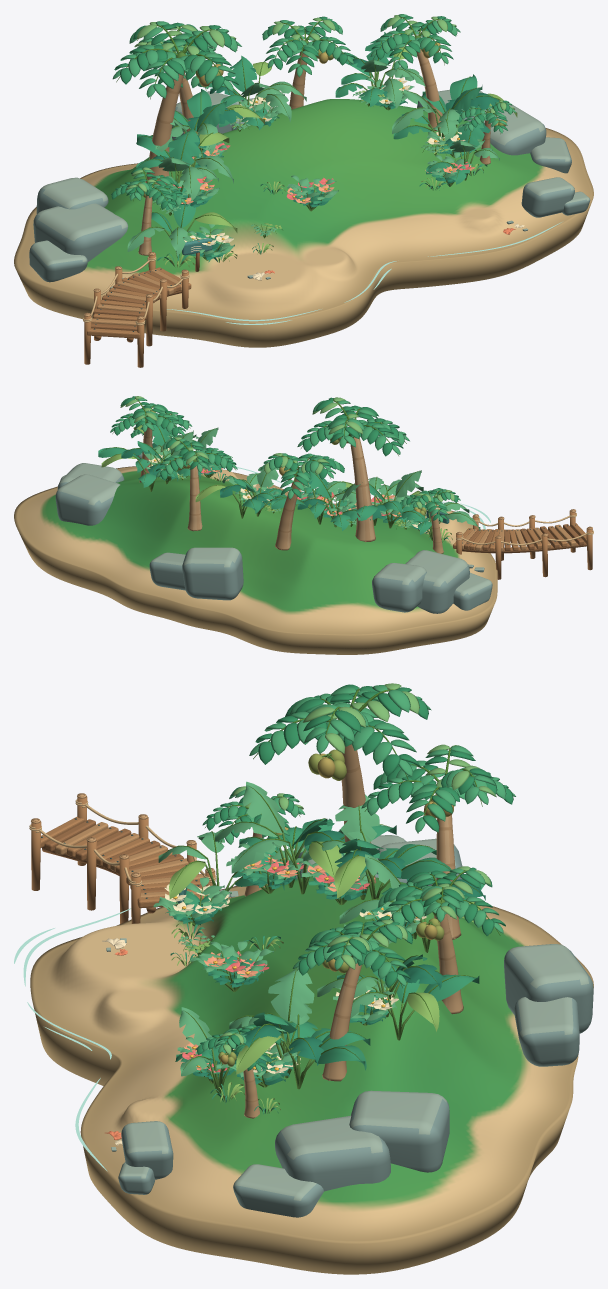
File: environment.glb
3 renders of one model, top to bottom at view 1: azimuth 30°, elevation 25°; view 2: azimuth 150°, elevation 25°; view 3: azimuth 270°, elevation 25°, orthographic. The views are drawn at different scales.
Visible parts, largest first — view 1: Cove terrain • single continuous sculpted solid, West cliff master, East cliff master, Right grove broadleaf / Foliage_Monstera_LeavesAndStems, Left grove upright / Foliage_Banana_LeavesAndStems, West cliff shoulder, Left beach broadleaf / Foliage_Banana_LeavesAndStems, Cove right sandstone, West cliff toe, Left grove broadleaf / Foliage_Monstera_LeavesAndStems, Right back grove broadleaf / Foliage_Monstera_LeavesAndStems, Rear saddle grove broadleaf / Foliage_Monstera_LeavesAndStem (+30 smaller); view 2: Cove terrain • single continuous sculpted solid, Rear rock shoulder, East cliff saddle, West cliff master, West cliff shoulder, Hero curved palm / Palm_A_BowedTrunk, Left grove broadleaf / Foliage_Monstera_LeavesAndStems, Left inner grove broadleaf / Foliage_Monstera_LeavesAndStems, Rear low slab, West cliff toe, Rear saddle grove broadleaf / Foliage_Monstera_LeavesAndStem, Right back grove broadleaf / Foliage_Monstera_LeavesAndStems (+28 smaller); view 3: Cove terrain • single continuous sculpted solid, East cliff master, East cliff saddle, Rear rock shoulder, Right grove broadleaf / Foliage_Monstera_LeavesAndStems, Rear low slab, East cliff toe, Right back grove upright / Foliage_Banana_LeavesAndStems, Left grove broadleaf / Foliage_Monstera_LeavesAndStems, Left grove upright / Foliage_Banana_LeavesAndStems, Left inner grove upright / Foliage_Banana_LeavesAndStems, Right grove upright / Foliage_Banana_LeavesAndStems (+34 smaller).
Boxes of the visible parts, x1,y1,x2,y2 form: Cove terrain • single continuous sculpted solid: (14, 99, 593, 347); West cliff master: (33, 203, 128, 261); East cliff master: (483, 104, 546, 155); Right grove broadleaf / Foliage_Monstera_LeavesAndStems: (393, 85, 499, 139); Left grove upright / Foliage_Banana_LeavesAndStems: (136, 132, 233, 200); West cliff shoulder: (36, 177, 108, 214); Left beach broadleaf / Foliage_Banana_LeavesAndStems: (127, 202, 237, 257); Cove right sandstone: (521, 177, 574, 217); West cliff toe: (29, 240, 87, 282); Left grove broadleaf / Foliage_Monstera_LeavesAndStems: (129, 127, 218, 210); Right back grove broadleaf / Foliage_Monstera_LeavesAndStems: (335, 32, 413, 106); Rear saddle grove broadleaf / Foliage_Monstera_LeavesAndStem: (210, 55, 284, 130); Cove terrain • single continuous sculpted solid: (14, 466, 497, 654); Rear rock shoulder: (182, 547, 243, 600); East cliff saddle: (55, 474, 120, 525); West cliff master: (405, 550, 469, 613); West cliff shoulder: (372, 563, 426, 612); Hero curved palm / Palm_A_BowedTrunk: (350, 437, 375, 542); Left grove broadleaf / Foliage_Monstera_LeavesAndStems: (338, 470, 426, 528); Left inner grove broadleaf / Foliage_Monstera_LeavesAndStems: (297, 471, 370, 530); Rear low slab: (149, 552, 185, 590); West cliff toe: (453, 572, 492, 610); Rear saddle grove broadleaf / Foliage_Monstera_LeavesAndStem: (220, 466, 296, 516); Right back grove broadleaf / Foliage_Monstera_LeavesAndStems: (121, 430, 200, 484); Cove terrain • single continuous sculpted solid: (30, 876, 593, 1274); East cliff master: (275, 1115, 390, 1191); East cliff saddle: (349, 1090, 449, 1172); Rear rock shoulder: (504, 944, 593, 1033); Right grove broadleaf / Foliage_Monstera_LeavesAndStems: (229, 966, 330, 1078); Rear low slab: (514, 997, 579, 1066); East cliff toe: (233, 1164, 323, 1217); Right back grove upright / Foliage_Banana_LeavesAndStems: (317, 974, 479, 1040); Left grove broadleaf / Foliage_Monstera_LeavesAndStems: (238, 781, 345, 887); Left grove upright / Foliage_Banana_LeavesAndStems: (215, 818, 396, 894); Left inner grove upright / Foliage_Banana_LeavesAndStems: (303, 829, 456, 899); Right grove upright / Foliage_Banana_LeavesAndStems: (236, 1003, 370, 1089).
Size of the model in its own units: 23.59 by 8.94 by 14.5.
